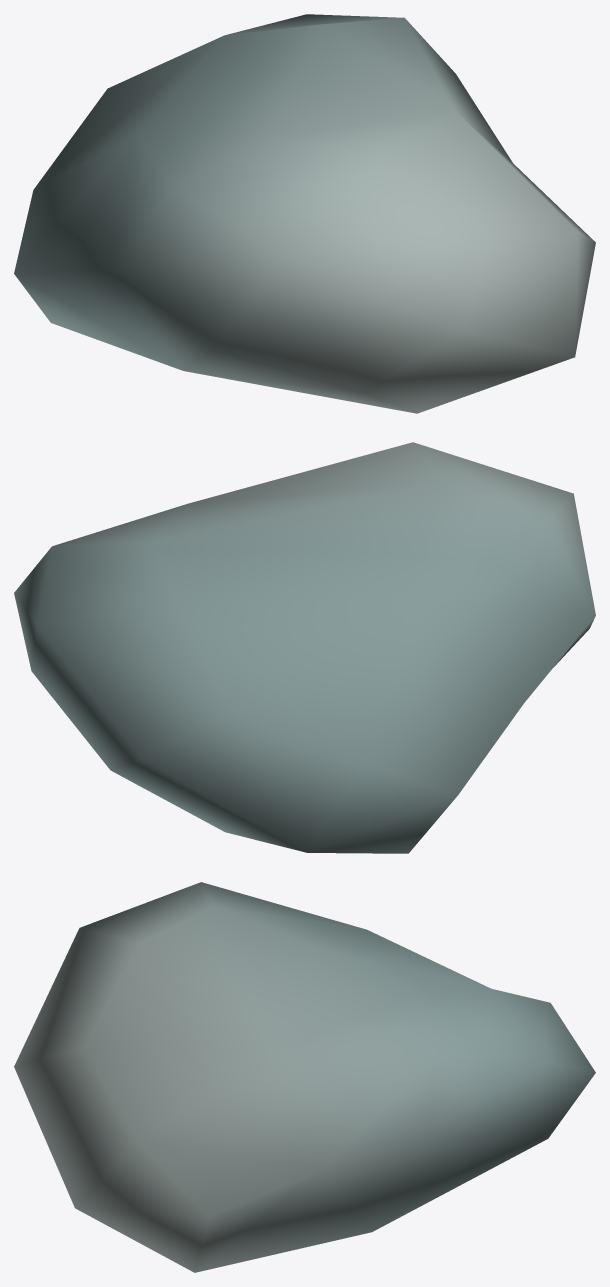
Rendered from rock1.glb.
3 renders of one model, top to bottom at view 1: azimuth 30°, elevation 25°; view 2: azimuth 150°, elevation 25°; view 3: azimuth 270°, elevation 25°, orthographic. The views are drawn at different scales.
Visible parts, largest first — view 1: rock; view 2: rock; view 3: rock.
Part boxes in pixels (left/top/right/bottom): rock: left=14, top=14, right=595, bottom=413; rock: left=14, top=442, right=595, bottom=853; rock: left=14, top=882, right=595, bottom=1272.
Size of the model in its own units: 0.9378 by 0.54 by 1.09.
Materials: 1 (1 with a texture image).
